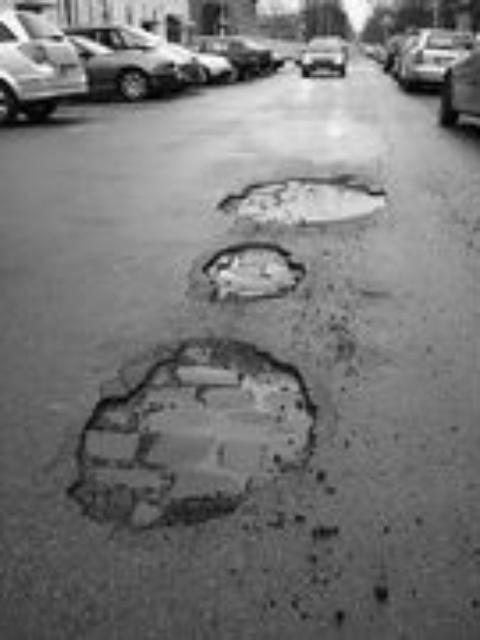Pothole: (54, 316, 346, 538), (199, 160, 421, 240), (185, 231, 345, 329)
